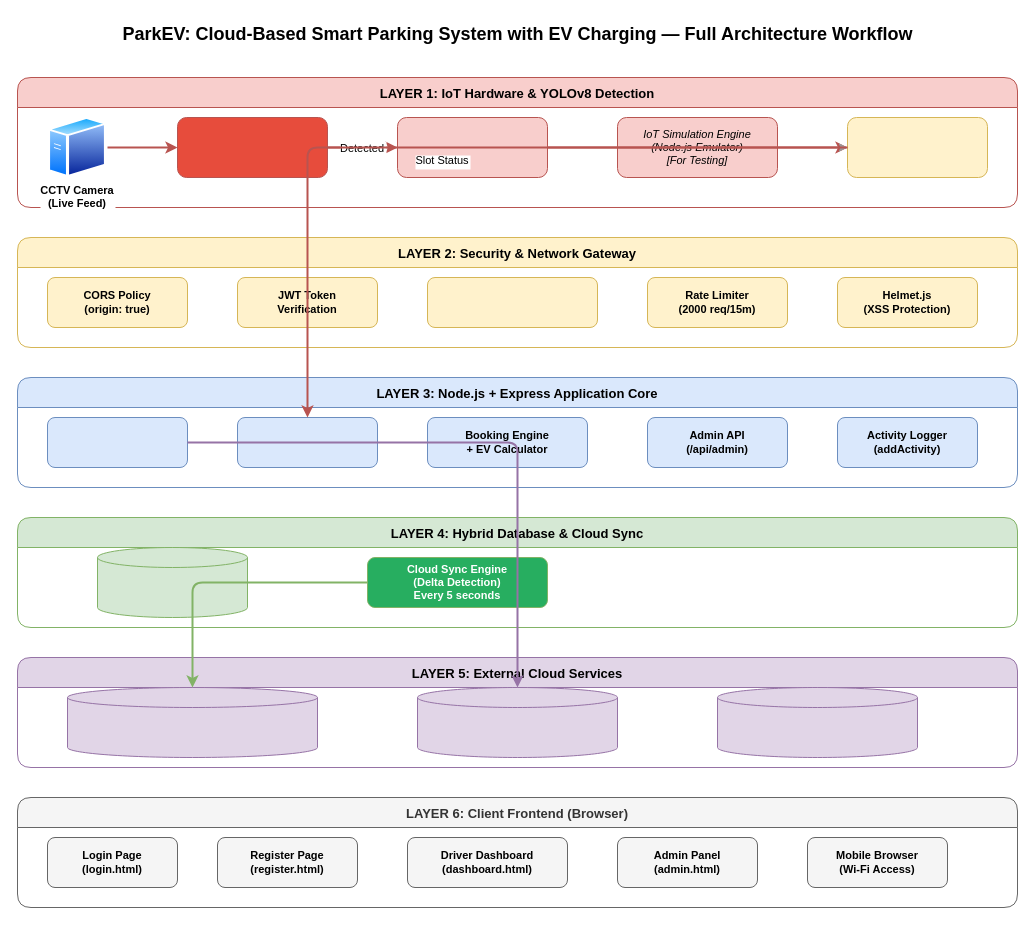
The diagram is 1035 pixels wide and 925 high, and some of its shapes have lost their labels. Each missing label, with the centre of its shape:
Auth Controller (/api/auth): point (117, 442)
AWS DynamoDB (parkev_users, parkev_slots, parkev_bookings, parkev_activity): point (192, 722)
ESP32 / NodeMCU Ultrasonic Sensors: point (472, 147)
GitHub Repository (Version Control): point (817, 722)
Google Firebase Authentication (OAuth 2.0): point (517, 722)
Local JSON Cache (data.json) 0ms Latency: point (172, 582)
REST API Output {slotId, status}: point (917, 147)
Role-Based Access Control (Admin/Faculty/Student): point (512, 302)
Slot Manager (/api/slots): point (307, 442)
YOLOv8 Object Detection (Python): point (252, 147)
